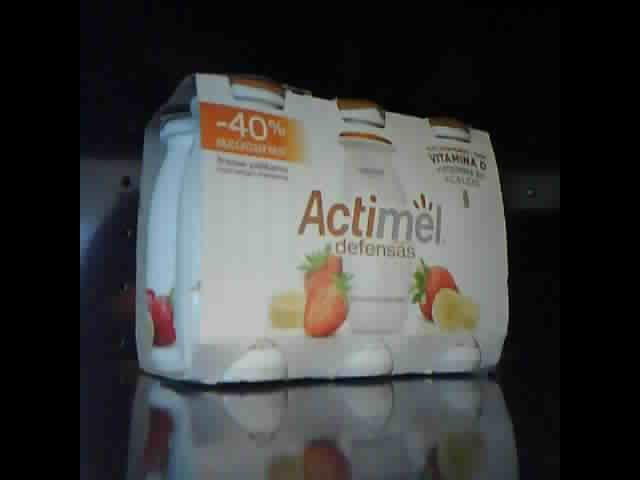actimel: (136, 70, 510, 383)
